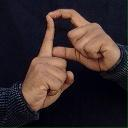hand: (21, 14, 74, 111), (48, 8, 120, 72)
